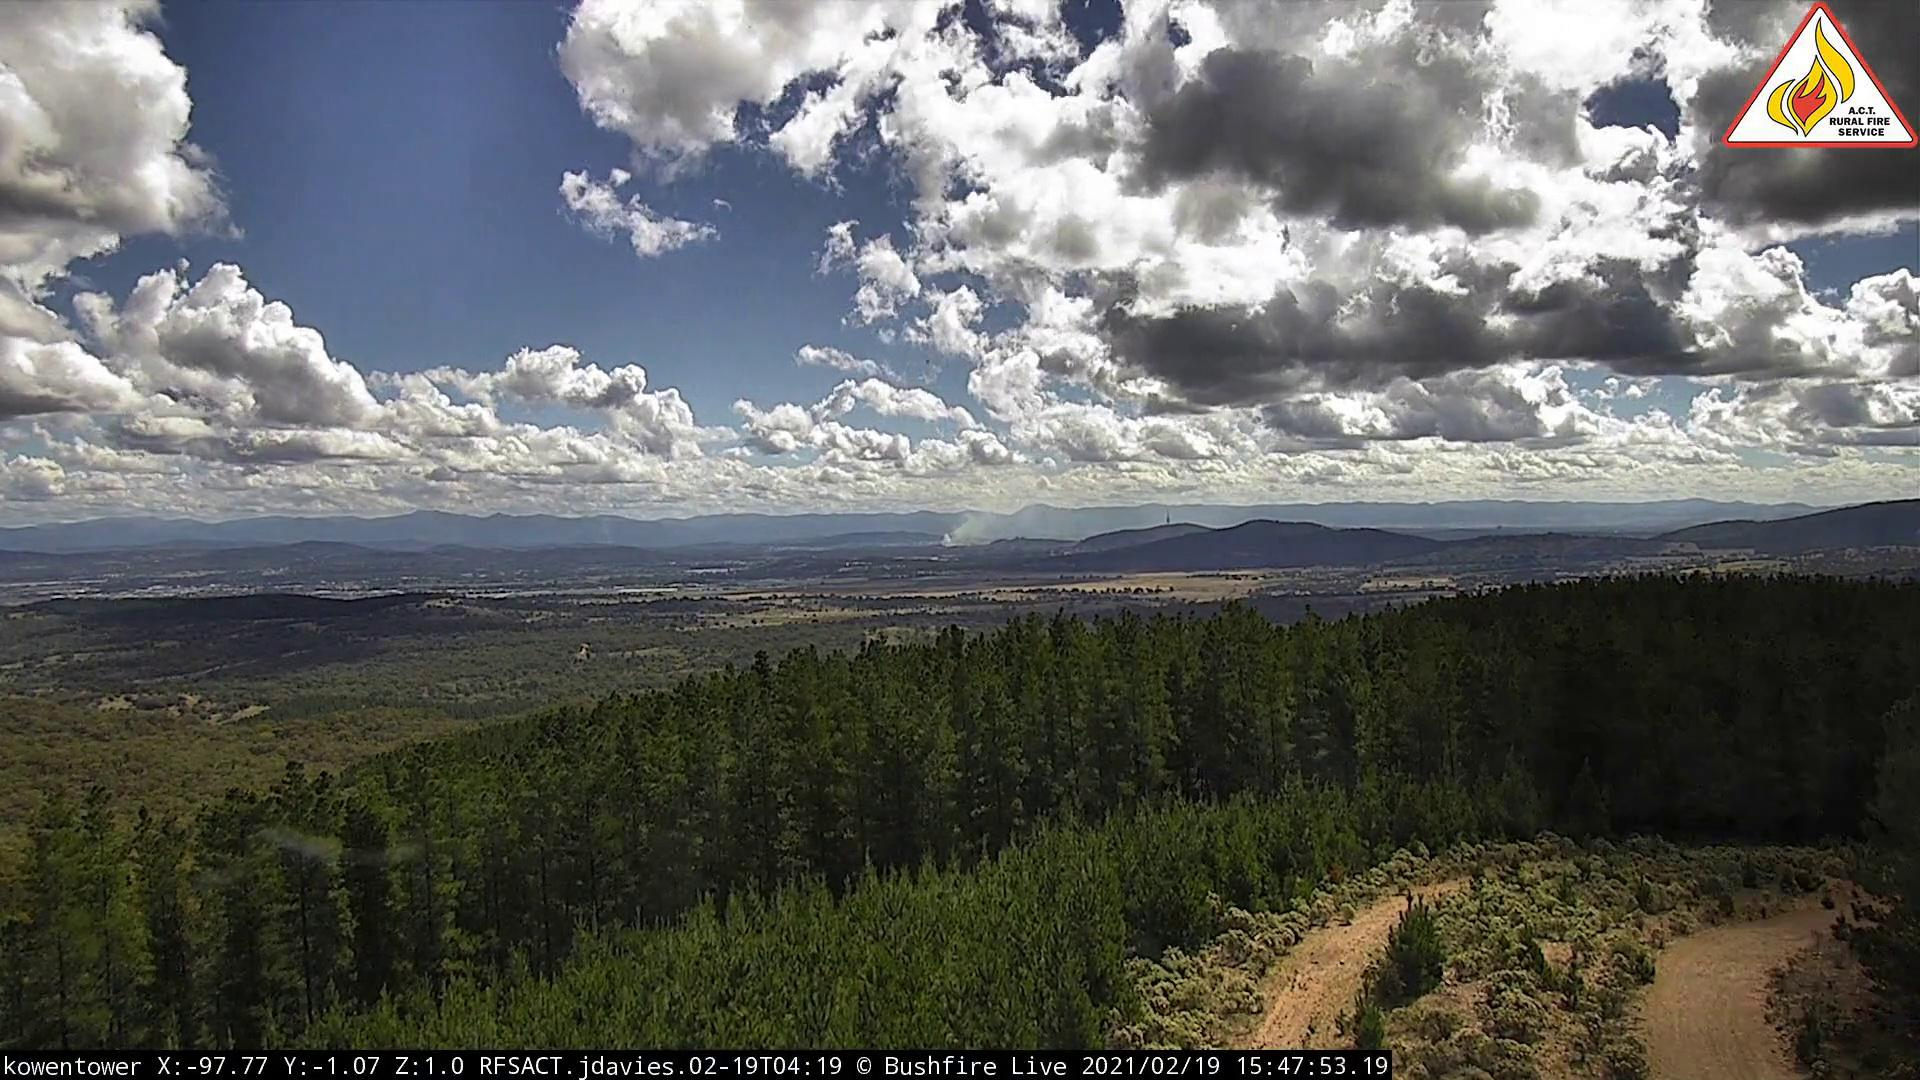Smoke: (938, 504, 1000, 553), (599, 529, 618, 553)
